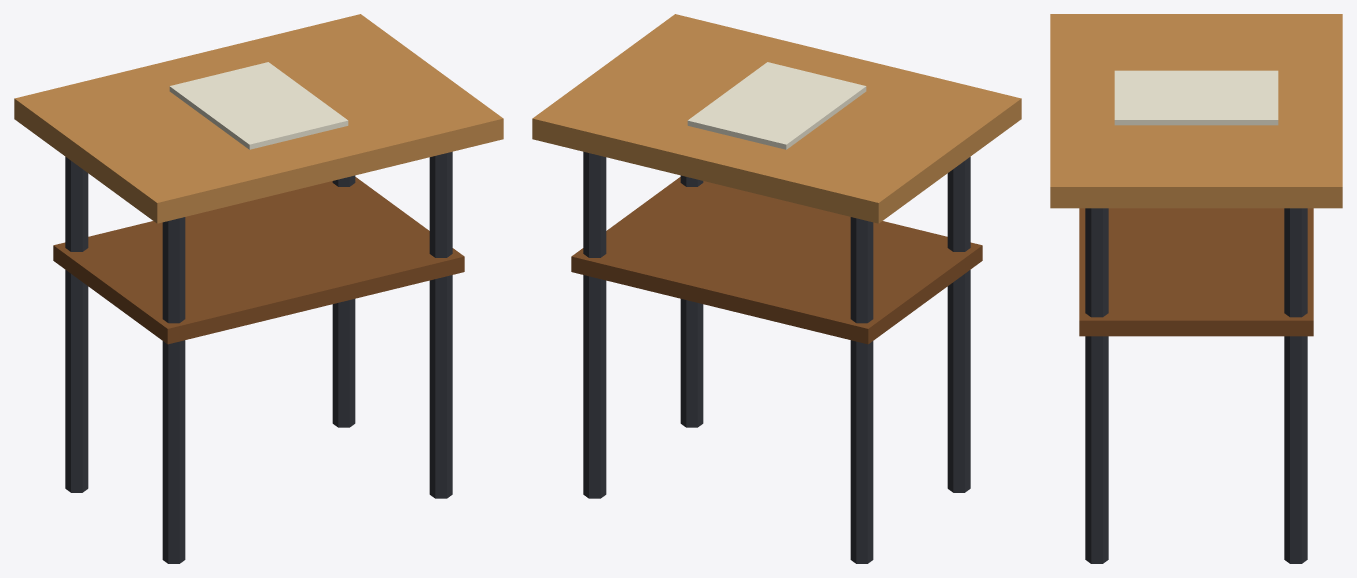
Rendered from school_desk.fbx.
3 renders of one model, left to right at view 1: azimuth 30°, elevation 25°; view 2: azimuth 150°, elevation 25°; view 3: azimuth 270°, elevation 25°, orthographic. The views are drawn at different scales.
Visible parts, largest first — view 1: school_desk; view 2: school_desk; view 3: school_desk.
Boxes of the visible parts, x1,y1,x2,y2 form: school_desk: [14, 14, 503, 563]; school_desk: [532, 14, 1021, 563]; school_desk: [1050, 14, 1342, 563].
Bounding box in the file's own units: 0.7 × 0.75 × 0.5.
